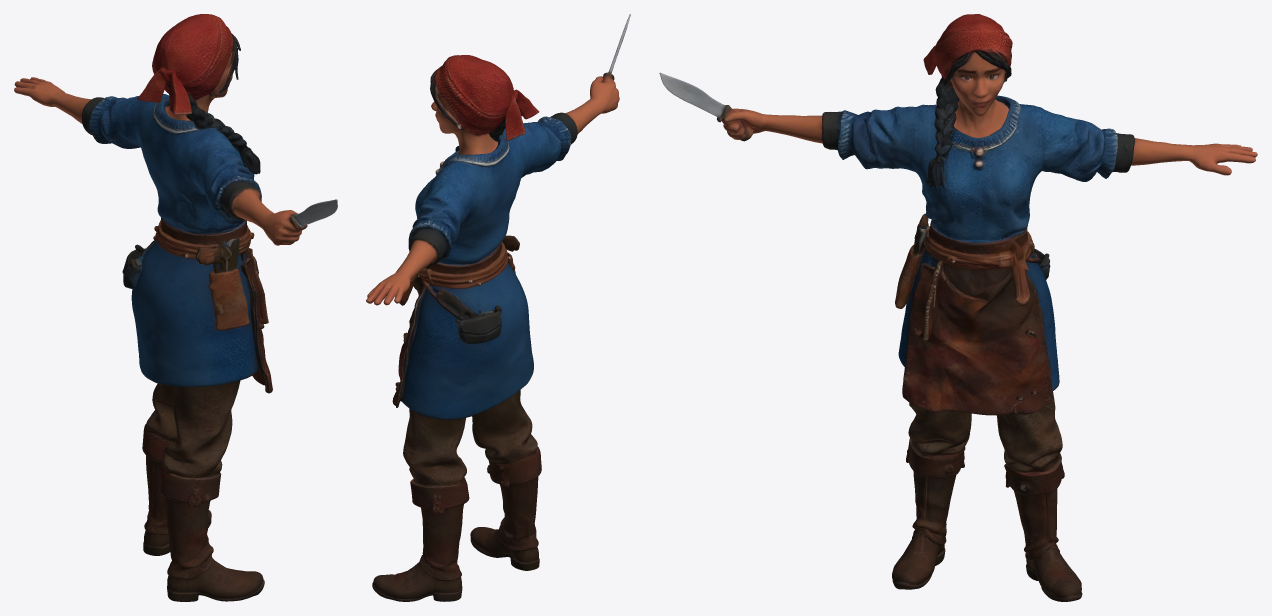
3 views of the same model, side by side, from view 1: azimuth 30°, elevation 25°; view 2: azimuth 150°, elevation 25°; view 3: azimuth 270°, elevation 25° (orthographic). The views are drawn at different scales.
Parts seen in each view (by area): view 1: tripo_node_95b0338c-9c21-4568-9e41-9588be3597b8; view 2: tripo_node_95b0338c-9c21-4568-9e41-9588be3597b8; view 3: tripo_node_95b0338c-9c21-4568-9e41-9588be3597b8.
Part boxes in pixels (bbox=[...]): tripo_node_95b0338c-9c21-4568-9e41-9588be3597b8: bbox=[14, 14, 337, 601]; tripo_node_95b0338c-9c21-4568-9e41-9588be3597b8: bbox=[366, 14, 630, 601]; tripo_node_95b0338c-9c21-4568-9e41-9588be3597b8: bbox=[659, 14, 1257, 601].
Size of the model in its own units: 0.2258 by 1 by 0.9668.
Materials: 1 (1 with a texture image).
